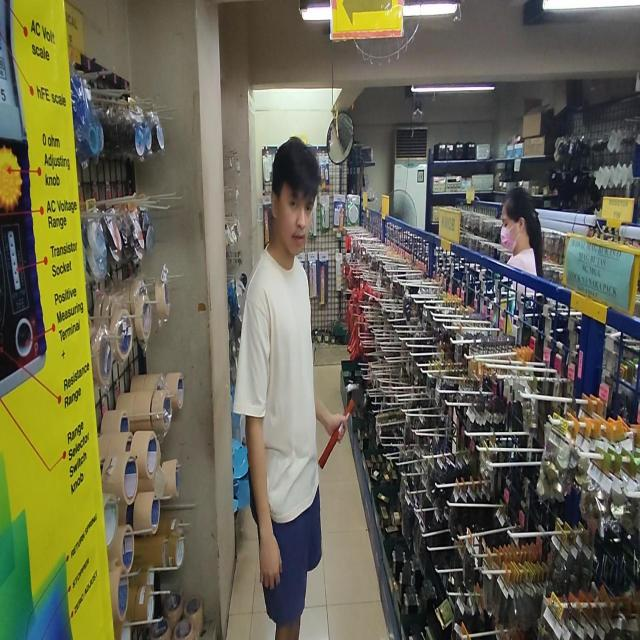hammer: (318, 382, 366, 470)
